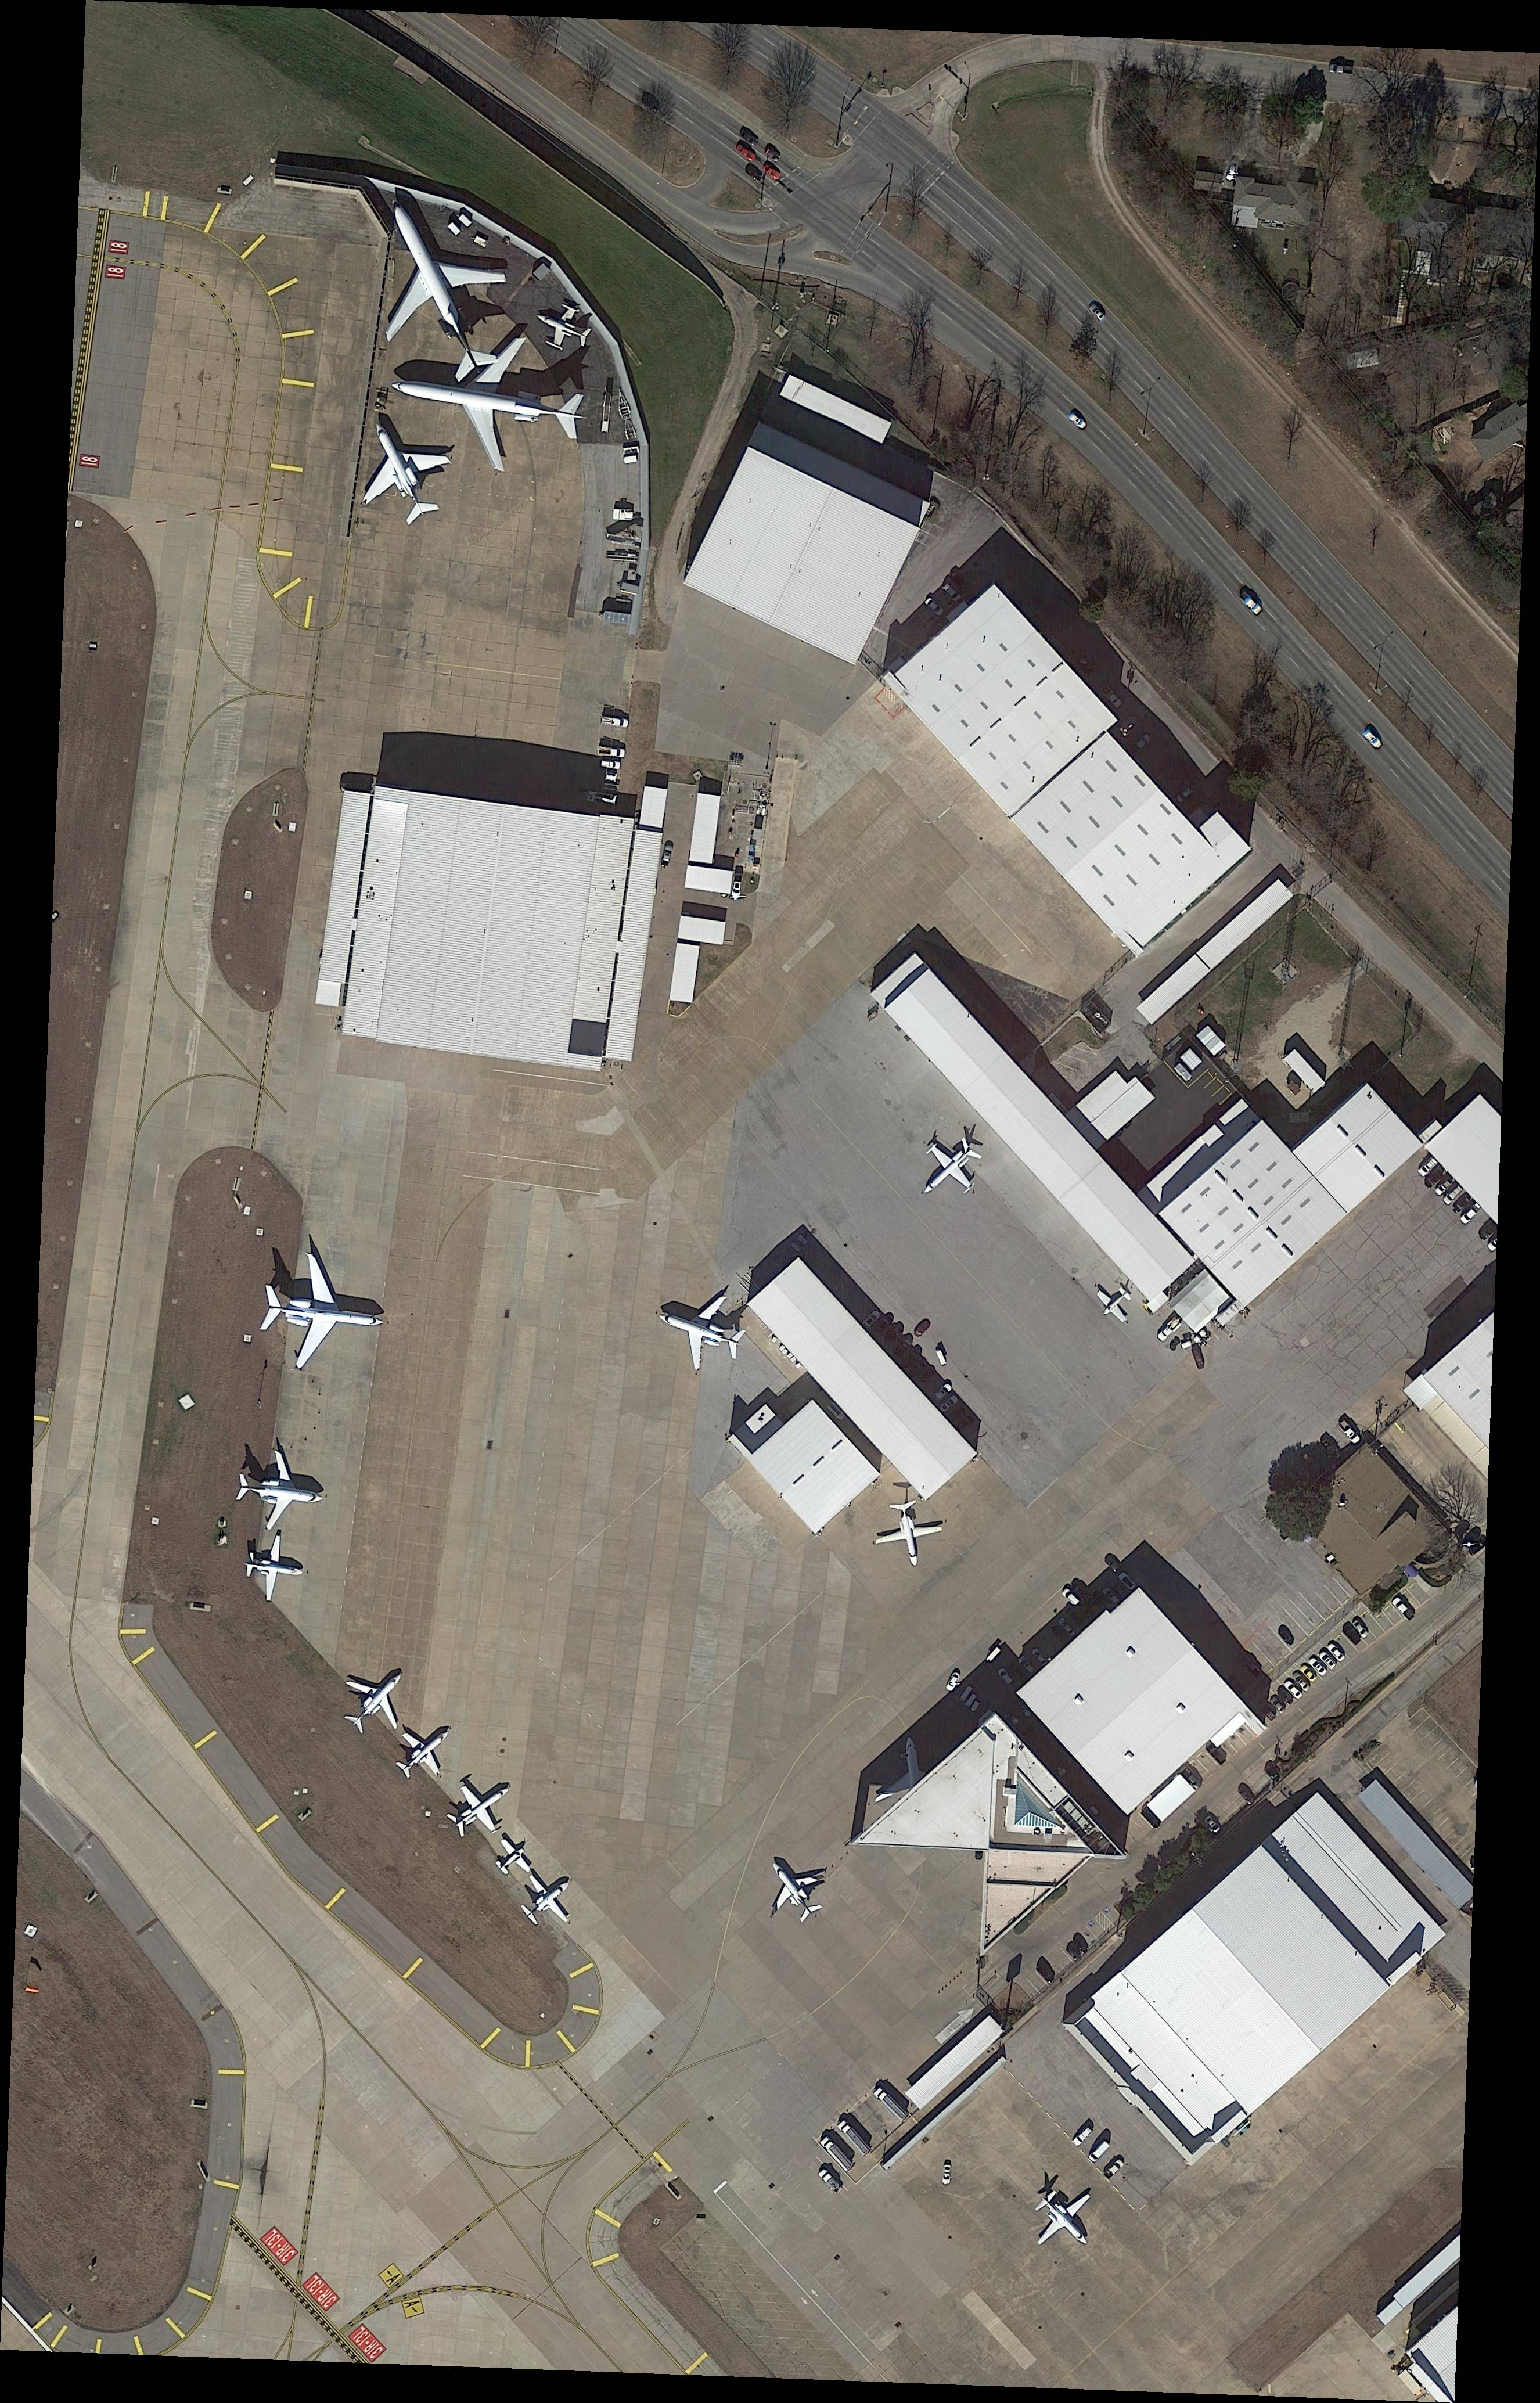large vehicle: (873, 2087, 908, 2121), (820, 2136, 854, 2171), (838, 2120, 870, 2156)
plane: (329, 171, 539, 403), (381, 320, 598, 485), (336, 403, 469, 541), (256, 1247, 391, 1379), (644, 1276, 753, 1384), (327, 1652, 424, 1749), (1019, 2172, 1109, 2265), (233, 1448, 325, 1534), (906, 1125, 994, 1214), (438, 1766, 526, 1851), (752, 1848, 834, 1930), (384, 1709, 463, 1792), (509, 1862, 587, 1939), (870, 1497, 948, 1571), (243, 1534, 305, 1605), (869, 1733, 928, 1804), (529, 297, 595, 358), (1089, 1278, 1140, 1329), (486, 1833, 537, 1884)
small vehicle: (1157, 1318, 1181, 1343), (818, 2168, 842, 2193), (1392, 1597, 1415, 1621), (1239, 592, 1262, 615), (1339, 1420, 1361, 1444), (1089, 2139, 1111, 2163), (1460, 1202, 1483, 1225), (1140, 1807, 1161, 1827), (1443, 1184, 1463, 1205), (1074, 2125, 1093, 2147), (1363, 729, 1383, 750), (1104, 2159, 1124, 2179), (1182, 1769, 1203, 1788), (1419, 1156, 1438, 1177), (1478, 1221, 1498, 1240), (737, 143, 757, 161), (1308, 1658, 1327, 1677), (1452, 1195, 1471, 1214), (1293, 1673, 1310, 1693), (1209, 1746, 1226, 1765), (1068, 412, 1087, 430), (1327, 1644, 1345, 1662), (1343, 1625, 1361, 1644), (1018, 1656, 1036, 1675), (1062, 1588, 1081, 1606), (1319, 1652, 1337, 1670), (1285, 1681, 1302, 1700), (876, 1315, 894, 1334), (1435, 1177, 1452, 1195), (902, 1351, 921, 1368), (602, 716, 628, 728), (741, 128, 758, 146), (934, 1384, 951, 1402), (1426, 1170, 1443, 1188), (940, 1396, 958, 1413), (1103, 1587, 1121, 1604), (894, 1340, 912, 1357), (1260, 1703, 1276, 1721), (1059, 1618, 1075, 1636), (1352, 1620, 1369, 1638), (1239, 1787, 1255, 1804), (1031, 1648, 1048, 1666), (1089, 303, 1104, 322), (1270, 1696, 1286, 1714), (1120, 1573, 1136, 1590), (863, 1311, 880, 1329), (998, 1668, 1014, 1685), (764, 164, 782, 179), (886, 1326, 903, 1342), (1301, 1665, 1316, 1682), (1205, 1816, 1221, 1833), (1072, 1582, 1088, 1598), (1110, 1581, 1127, 1597), (1278, 1688, 1294, 1704), (1329, 64, 1353, 75), (599, 747, 624, 757), (1192, 1348, 1205, 1368), (661, 845, 673, 867), (909, 1362, 926, 1377), (1052, 1624, 1067, 1641), (947, 1673, 960, 1692), (915, 1321, 930, 1337), (958, 1416, 974, 1431), (950, 1406, 966, 1421), (1279, 1629, 1294, 1645), (746, 167, 761, 181), (601, 760, 621, 769), (766, 147, 780, 161), (920, 1369, 933, 1383), (942, 2164, 951, 2183), (1488, 1236, 1498, 1251)
